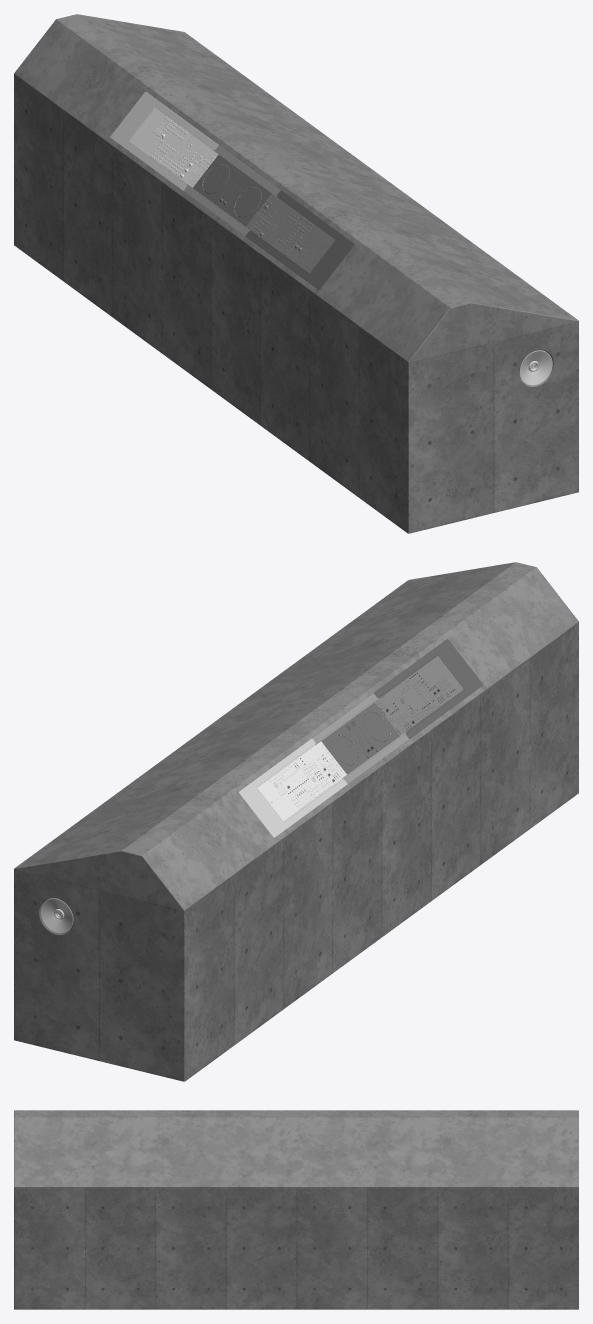
File: SM_Terminal_01.fbx
3 renders of one model, top to bottom at view 1: azimuth 30°, elevation 25°; view 2: azimuth 150°, elevation 25°; view 3: azimuth 270°, elevation 25°, orthographic. The views are drawn at different scales.
Parts seen in each view (by area): view 1: SM_Terminal_01; view 2: SM_Terminal_01; view 3: SM_Terminal_01.
Boxes of the visible parts, <box> form: SM_Terminal_01: <box>14,14,578,533</box>; SM_Terminal_01: <box>14,562,578,1081</box>; SM_Terminal_01: <box>14,1110,578,1309</box>.
Bounding box in the file's own units: 200 × 241 × 800.
